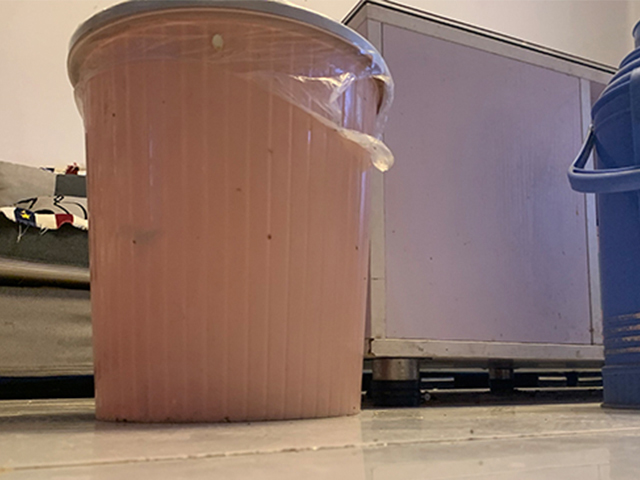sofa: (1, 160, 89, 396)
table: (339, 1, 601, 409)
trashcan: (66, 1, 396, 422)
